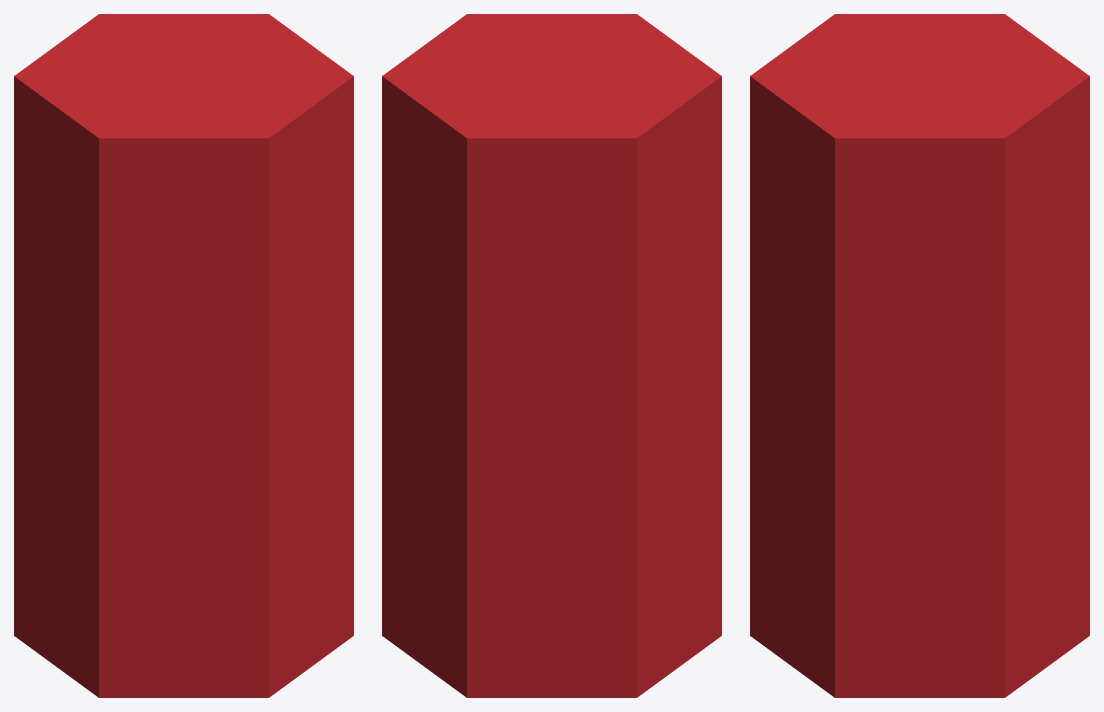
File: Hexagon.obj
The picture shows the model from 3 angles, left to right: view 1: azimuth 30°, elevation 25°; view 2: azimuth 150°, elevation 25°; view 3: azimuth 270°, elevation 25°; orthographic projection.
Parts seen in each view (by area): view 1: Hexagon.002_Circle.002; view 2: Hexagon.002_Circle.002; view 3: Hexagon.002_Circle.002.
Part boxes in pixels (<box>): Hexagon.002_Circle.002: <box>14,14,353,697</box>; Hexagon.002_Circle.002: <box>382,14,721,697</box>; Hexagon.002_Circle.002: <box>750,14,1089,697</box>.
Size of the model in its own units: 17.9 by 37.55 by 20.67.
